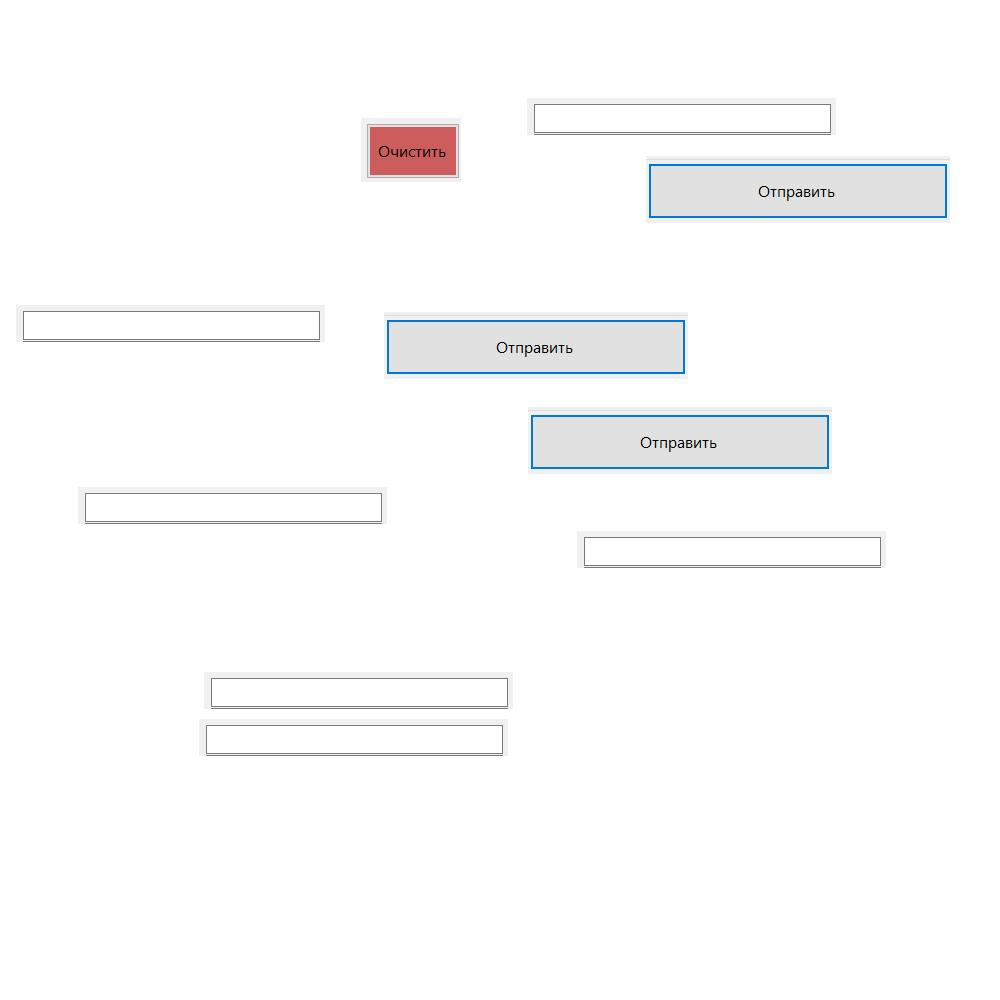Button: (646, 156, 950, 223), (528, 407, 832, 474), (384, 312, 688, 379), (361, 118, 461, 182)
EditText-: (78, 487, 387, 524), (16, 305, 325, 342), (527, 98, 836, 135), (204, 672, 513, 709), (577, 531, 886, 568), (199, 719, 508, 756)
